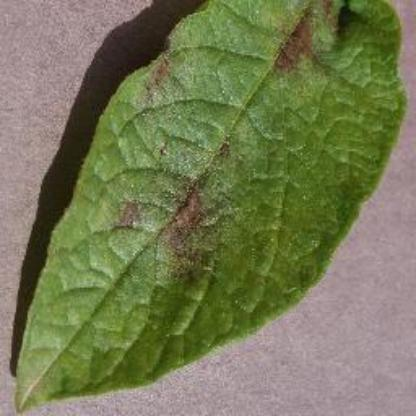Late-Blight: (13, 0, 409, 416)
